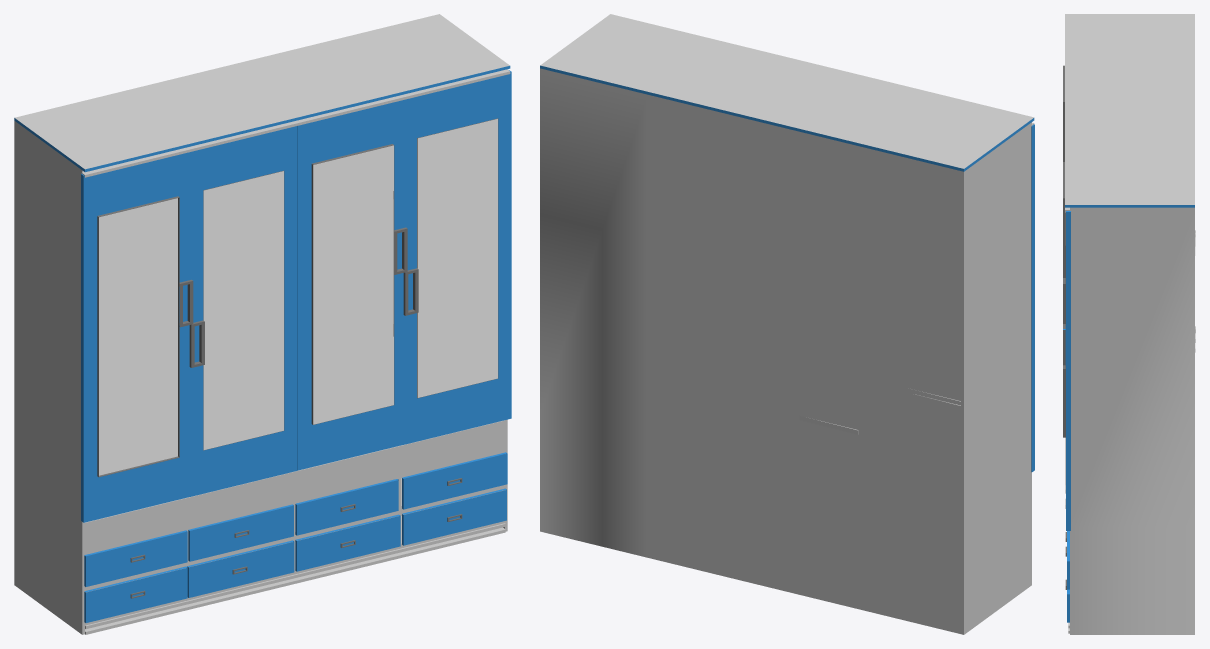
File: SHKAV.FBX
3 renders of one model, left to right at view 1: azimuth 30°, elevation 25°; view 2: azimuth 150°, elevation 25°; view 3: azimuth 270°, elevation 25°, orthographic. The views are drawn at different scales.
Parts seen in each view (by area): view 1: Box001; view 2: Box001; view 3: Box001.
Boxes of the visible parts, bbox=[...] form: Box001: bbox=[14, 14, 511, 634]; Box001: bbox=[540, 14, 1034, 634]; Box001: bbox=[1063, 14, 1195, 634].
Bounding box in the file's own units: 239 × 250 × 70.
